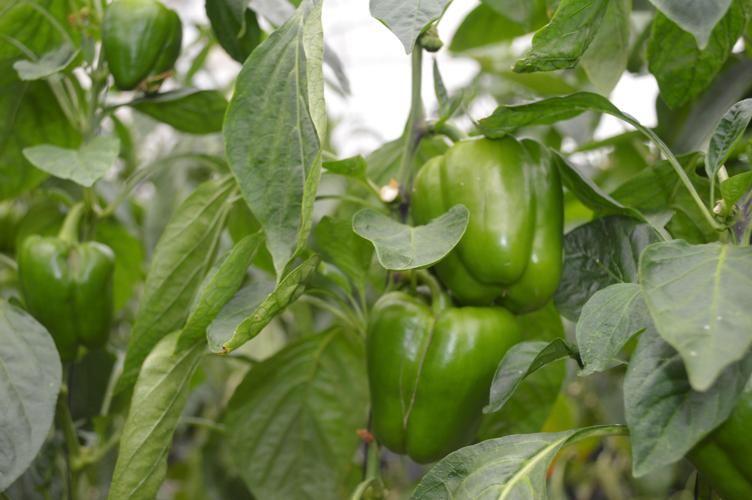BellPepper: (400, 126, 574, 309), (346, 283, 493, 454), (11, 236, 123, 371), (100, 1, 184, 98)
